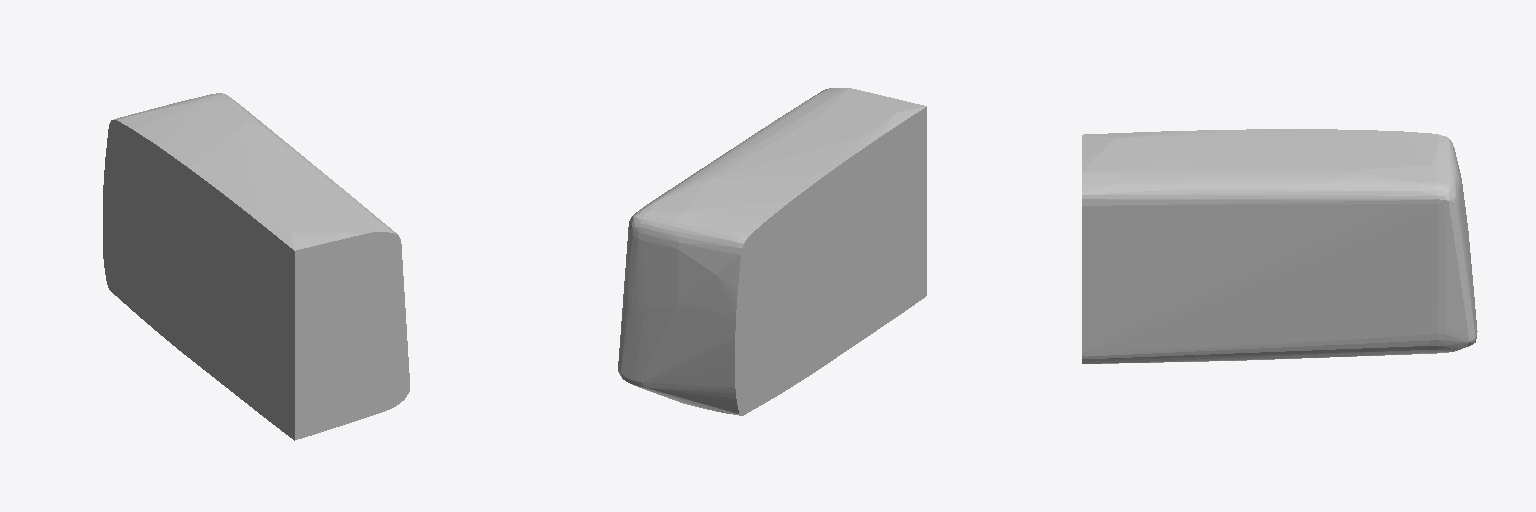
Rendered from box_pink_M_collision_0.obj.
3 renders of one model, left to right at view 1: azimuth 30°, elevation 25°; view 2: azimuth 150°, elevation 25°; view 3: azimuth 270°, elevation 25°, orthographic.
Bounding box in the file's own units: 0.0238 × 0.0369 × 0.0676.